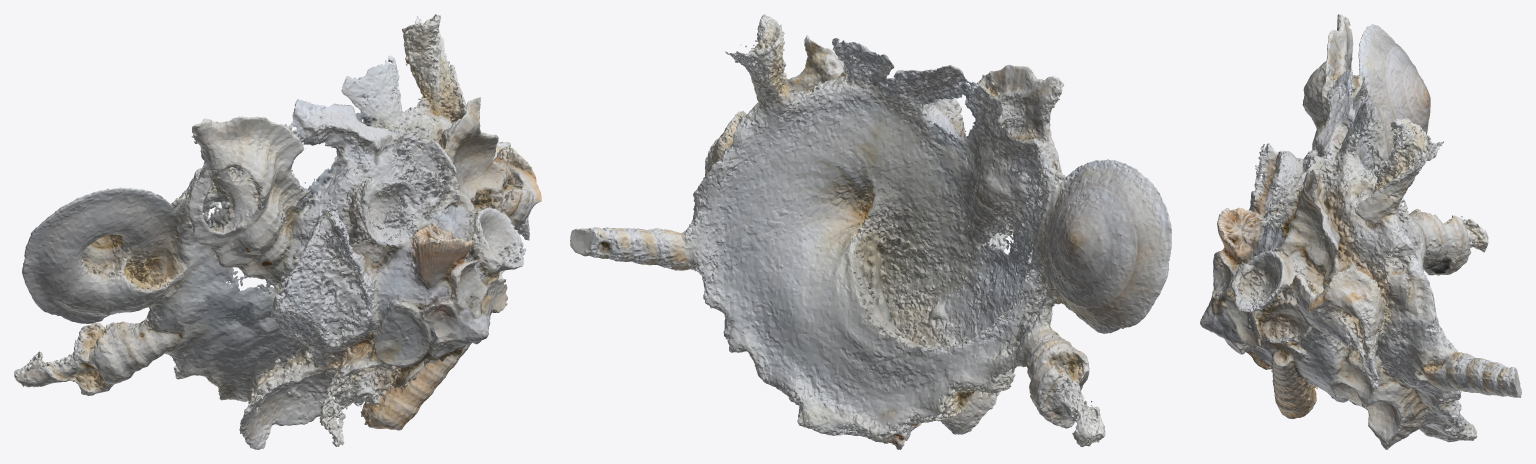
File: MZUR3D-066.glb
3 renders of one model, left to right at view 1: azimuth 30°, elevation 25°; view 2: azimuth 150°, elevation 25°; view 3: azimuth 270°, elevation 25°, orthographic. The views are drawn at different scales.
Visible parts, largest first — view 1: Xenophora_1; view 2: Xenophora_1; view 3: Xenophora_1.
Part boxes in pixels (x1,y1,x2,y2): Xenophora_1: [14, 14, 541, 449]; Xenophora_1: [570, 14, 1171, 449]; Xenophora_1: [1200, 14, 1521, 449].
Size of the model in its own units: 0.8629 by 0.5808 by 0.4542.
Materials: 1 (1 with a texture image).
